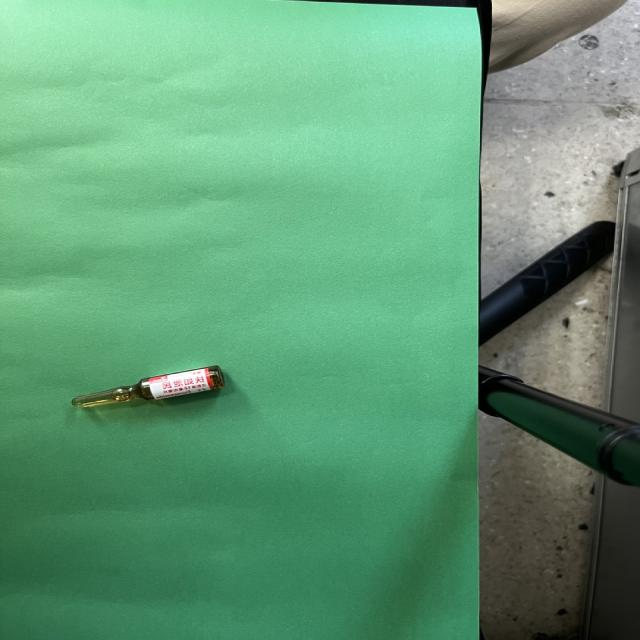Ampoules: (71, 366, 225, 408)
